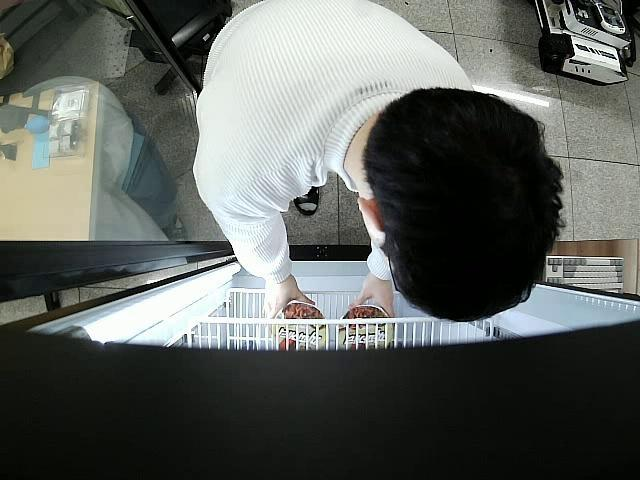03_chapagetti_L: (272, 301, 327, 356), (340, 304, 393, 352)
